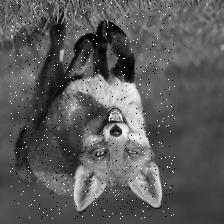fox: (11, 0, 176, 219)
